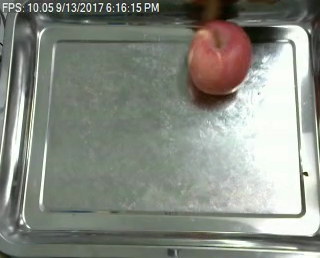Apple: (185, 19, 255, 95)
